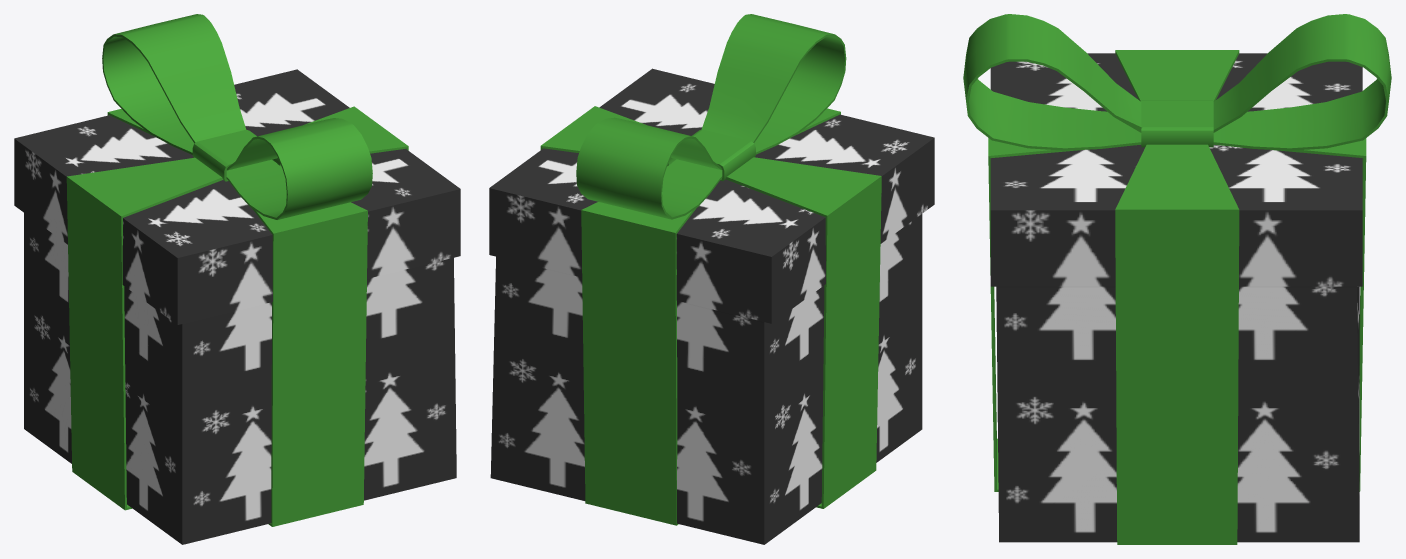
The model's file is chirstmas_gift.fbx.
3 views of the same model, side by side, from view 1: azimuth 30°, elevation 25°; view 2: azimuth 150°, elevation 25°; view 3: azimuth 270°, elevation 25° (orthographic). The views are drawn at different scales.
Parts seen in each view (by area): view 1: Gift; view 2: Gift; view 3: Gift.
Boxes of the visible parts, bbox=[...] form: Gift: bbox=[14, 14, 460, 544]; Gift: bbox=[489, 14, 934, 544]; Gift: bbox=[963, 14, 1391, 544].
Bounding box in the file's own units: 210 × 264 × 238.
